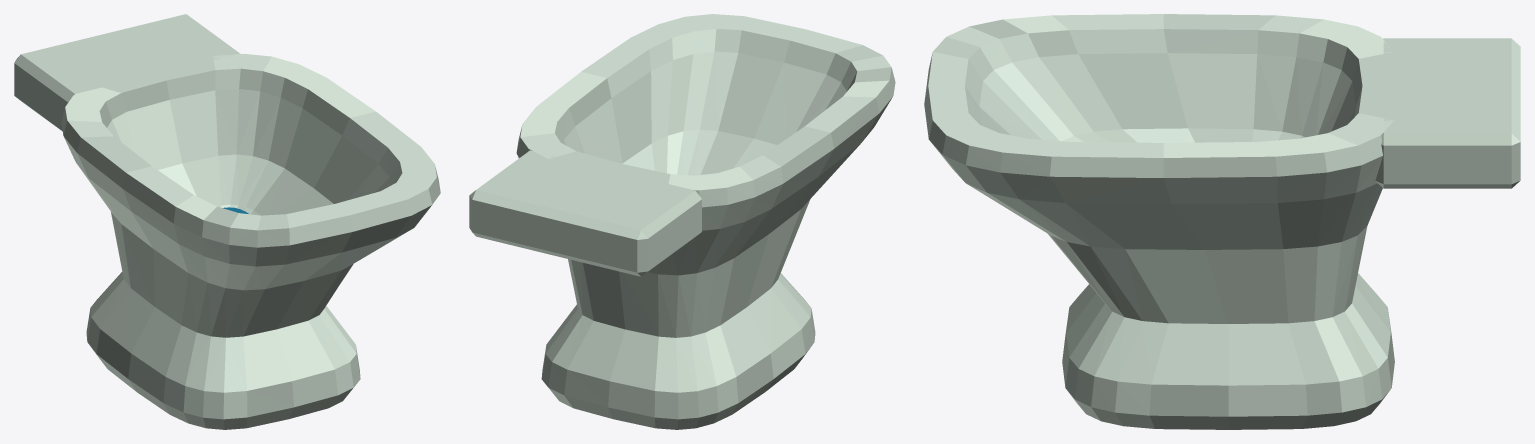
The model's file is EB_SquareBowl.fbx.
The picture shows the model from 3 angles, left to right: view 1: azimuth 30°, elevation 25°; view 2: azimuth 150°, elevation 25°; view 3: azimuth 270°, elevation 25°; orthographic projection. The views are drawn at different scales.
Visible parts, largest first — view 1: EB_SquareBowl; view 2: EB_SquareBowl; view 3: EB_SquareBowl.
Boxes of the visible parts, x1,y1,x2,y2 form: EB_SquareBowl: (14, 14, 440, 429); EB_SquareBowl: (469, 14, 895, 429); EB_SquareBowl: (924, 14, 1520, 429).
Bounding box in the file's own units: 0.43 × 0.4 × 0.735.
